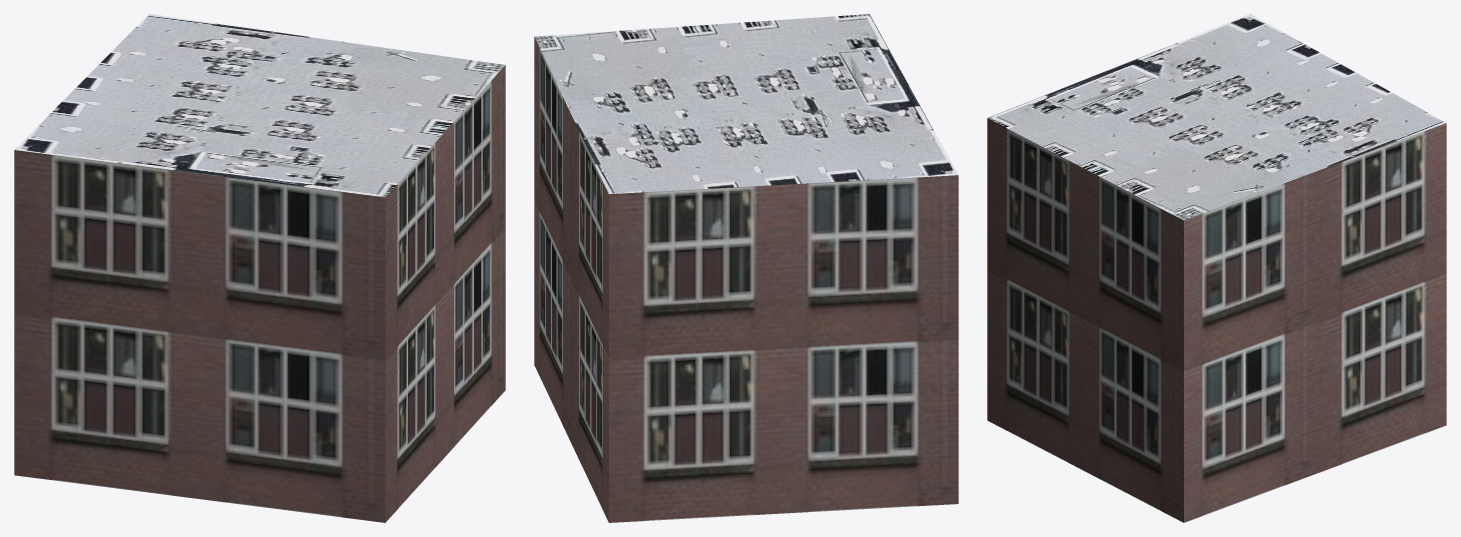
File: ResTex__3570.fbx
3 renders of one model, left to right at view 1: azimuth 30°, elevation 25°; view 2: azimuth 150°, elevation 25°; view 3: azimuth 270°, elevation 25°, orthographic. The views are drawn at different scales.
Parts seen in each view (by area): view 1: CityEngineMaterial_12_m, CityEngineMaterial_m; view 2: CityEngineMaterial_12_m, CityEngineMaterial_m; view 3: CityEngineMaterial_12_m, CityEngineMaterial_m.
Boxes of the visible parts, x1,y1,x2,y2 form: CityEngineMaterial_12_m: (14,65,505,522); CityEngineMaterial_m: (15,14,504,197); CityEngineMaterial_12_m: (534,37,958,522); CityEngineMaterial_m: (535,14,958,194); CityEngineMaterial_12_m: (987,118,1446,522); CityEngineMaterial_m: (987,14,1446,220).
Size of the model in its own units: 8.79 by 6 by 8.26.
2 materials, 2 textured.
